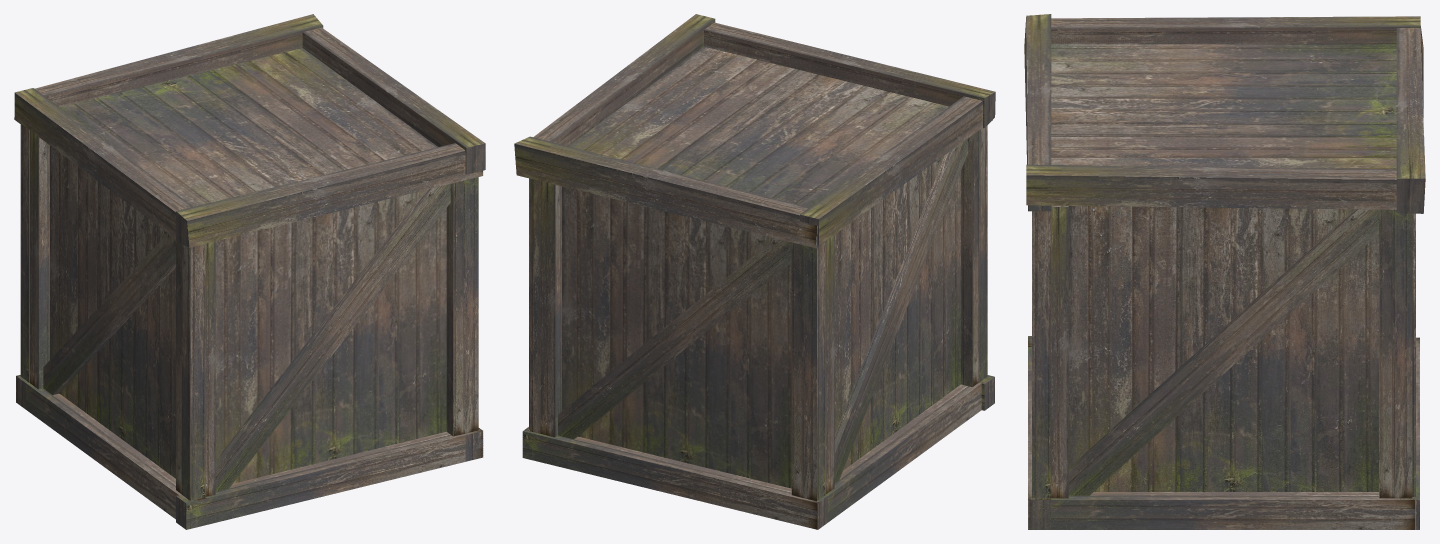
Rendered from Crate_02.fbx.
3 renders of one model, left to right at view 1: azimuth 30°, elevation 25°; view 2: azimuth 150°, elevation 25°; view 3: azimuth 270°, elevation 25°, orthographic. The views are drawn at different scales.
Visible parts, largest first — view 1: Crate_02_1; view 2: Crate_02_1; view 3: Crate_02_1.
Part boxes in pixels (left/top/right/bottom): Crate_02_1: left=14, top=14, right=485, bottom=529; Crate_02_1: left=514, top=14, right=995, bottom=529; Crate_02_1: left=1024, top=14, right=1425, bottom=529.
Bounding box in the file's own units: 103 × 102 × 104.
1 material, 1 textured.
